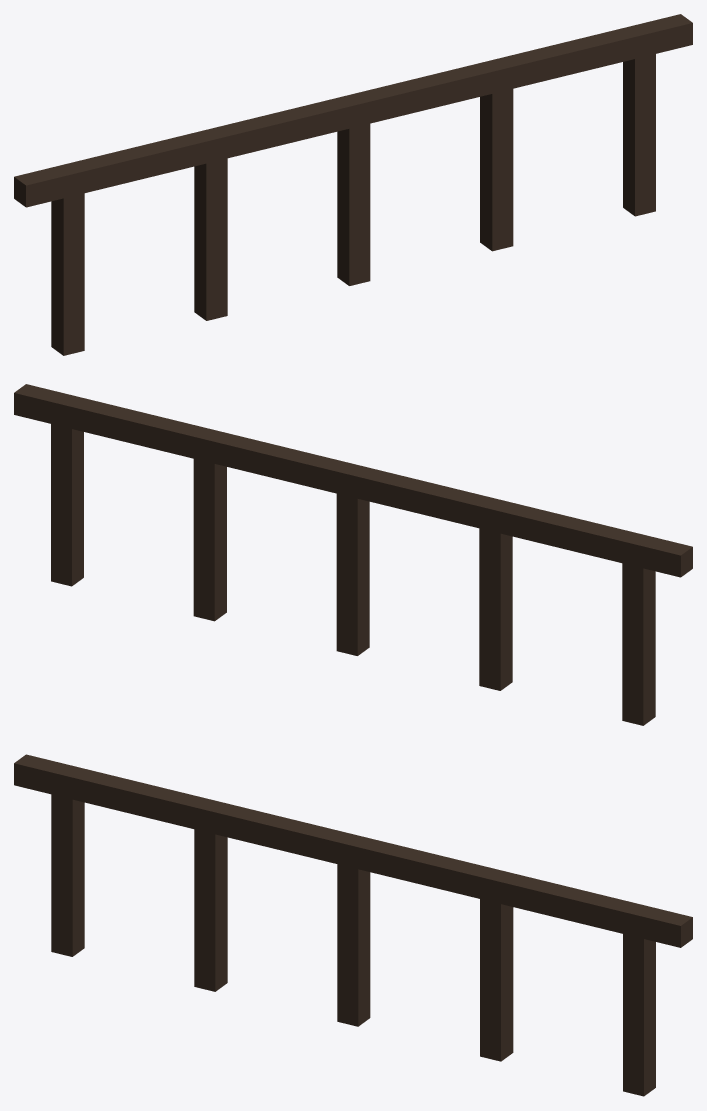
Rendered from Railing.fbx.
3 renders of one model, top to bottom at view 1: azimuth 30°, elevation 25°; view 2: azimuth 150°, elevation 25°; view 3: azimuth 330°, elevation 25°, orthographic.
Parts seen in each view (by area): view 1: Box017; view 2: Box017; view 3: Box017.
Part boxes in pixels (x1,y1,x2,y2): Box017: (14, 14, 692, 355); Box017: (14, 384, 692, 725); Box017: (14, 754, 692, 1096).
Size of the model in its own units: 317 by 81.66 by 10.
